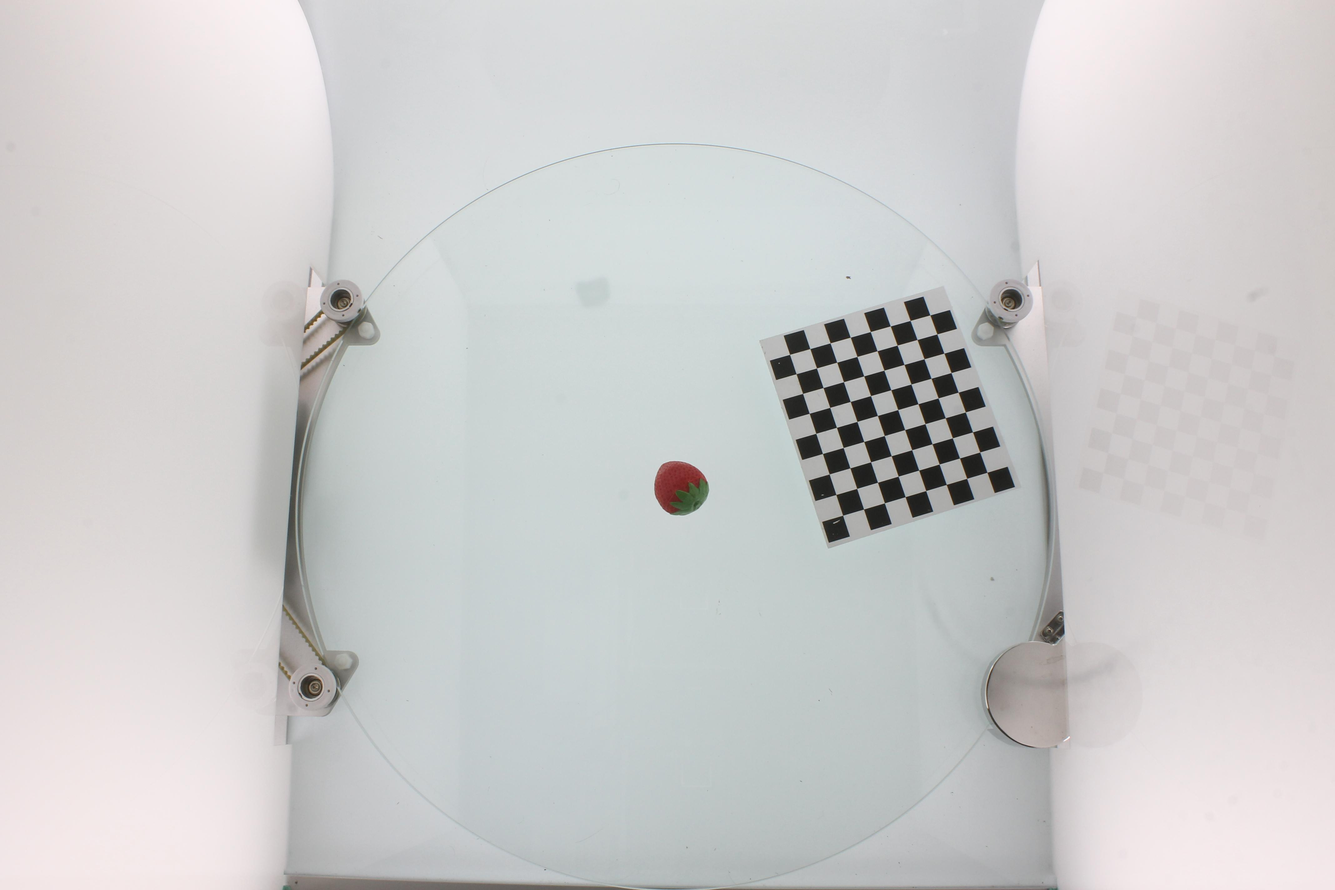strawberry: (655, 461, 708, 515)
